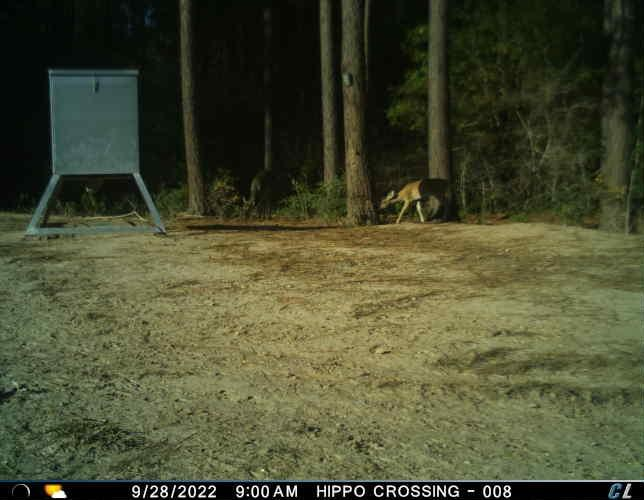Deer: (376, 177, 462, 229)
